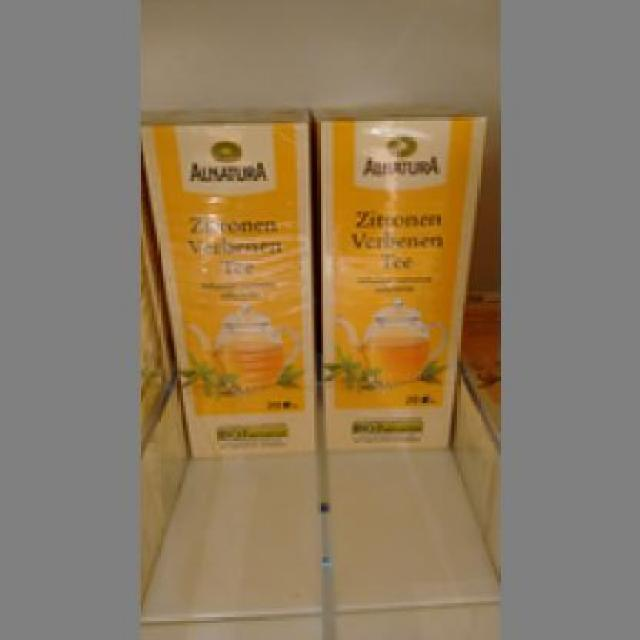Tea: (308, 99, 482, 452), (140, 102, 311, 455)
